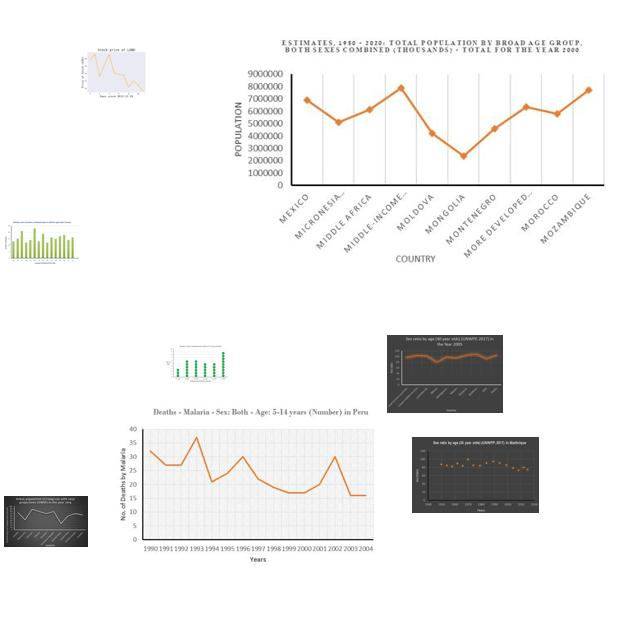Graph: (228, 37, 610, 265), (107, 406, 376, 565), (412, 437, 539, 513), (387, 335, 503, 413), (4, 496, 88, 547), (78, 44, 153, 100), (3, 220, 81, 266), (165, 344, 229, 384)
